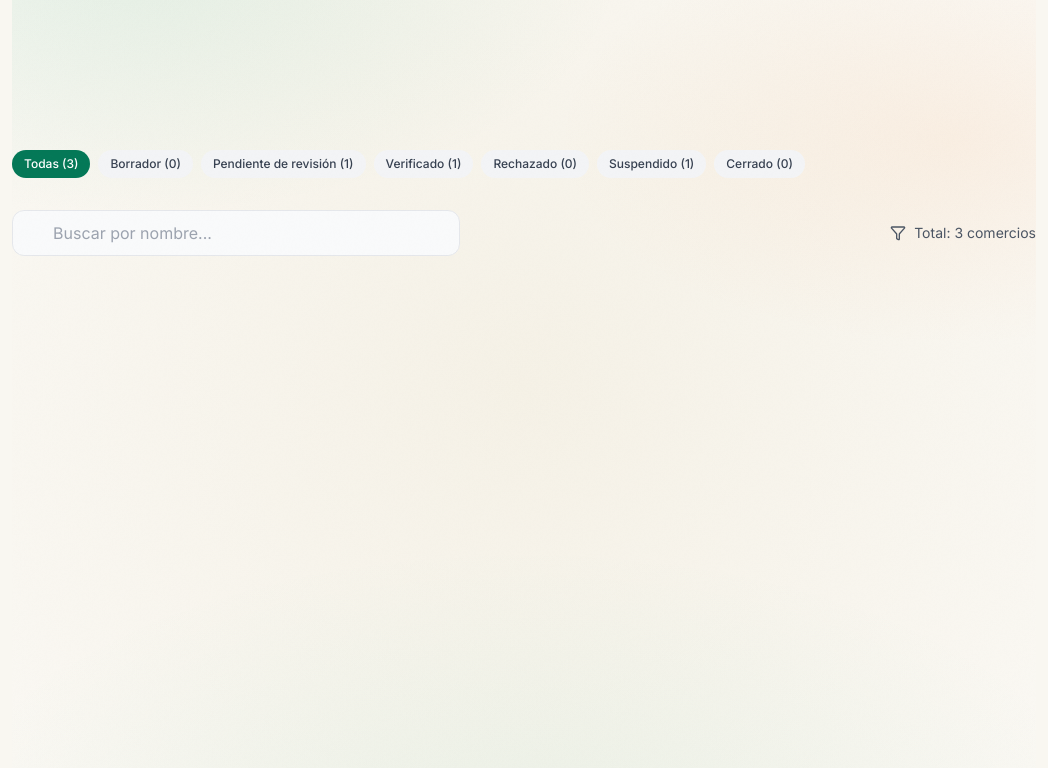
Test case: AdminShopsPage (página) › busca por nombre en el cliente (volumen de piloto)
Type "caf" into the field with placeholder "Buscar por nombre...".
click(236, 233); type("caf")  # box [12,210,460,256]
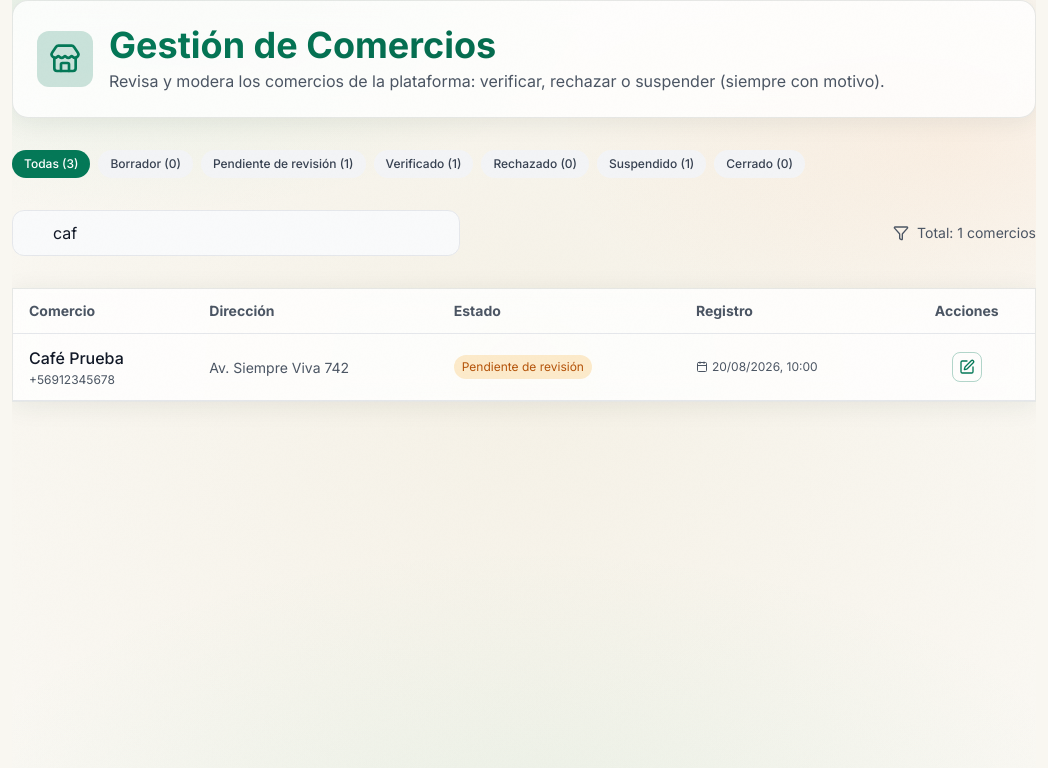
Now the text "Café Prueba" is shown, box [29,348,124,368]
